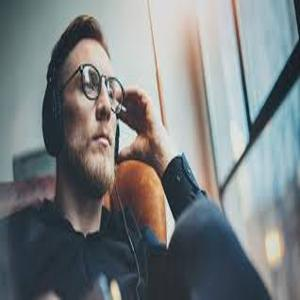Headphones: (39, 18, 93, 156)
